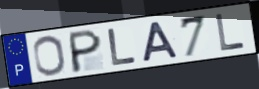7: (177, 15, 209, 59)
A: (141, 19, 181, 63)
L: (105, 27, 138, 67), (214, 12, 247, 52)
O: (31, 34, 68, 77)
P: (69, 27, 104, 74)
